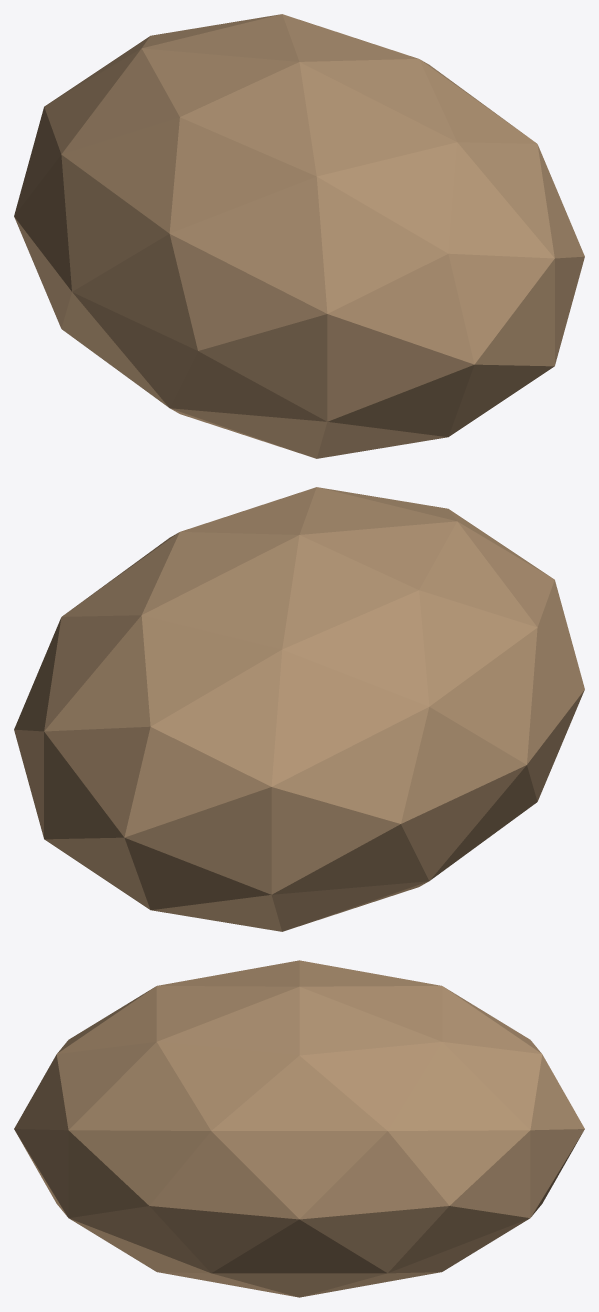
File: sack_r0_01.glb
3 renders of one model, top to bottom at view 1: azimuth 30°, elevation 25°; view 2: azimuth 150°, elevation 25°; view 3: azimuth 270°, elevation 25°, orthographic. The views are drawn at different scales.
Visible parts, largest first — view 1: sack; view 2: sack; view 3: sack.
Boxes of the visible parts, x1,y1,x2,y2 form: sack: (14,14,584,458); sack: (14,487,584,931); sack: (14,960,584,1297).
Bounding box in the file's own units: 0.63 × 0.462 × 0.84.
